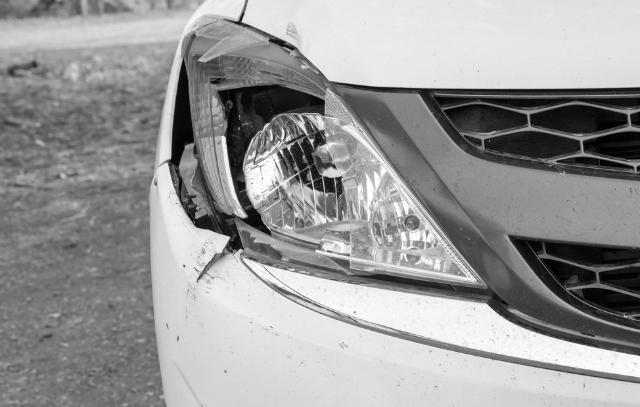Bumper: (161, 227, 275, 369)
Light: (179, 38, 414, 265)
